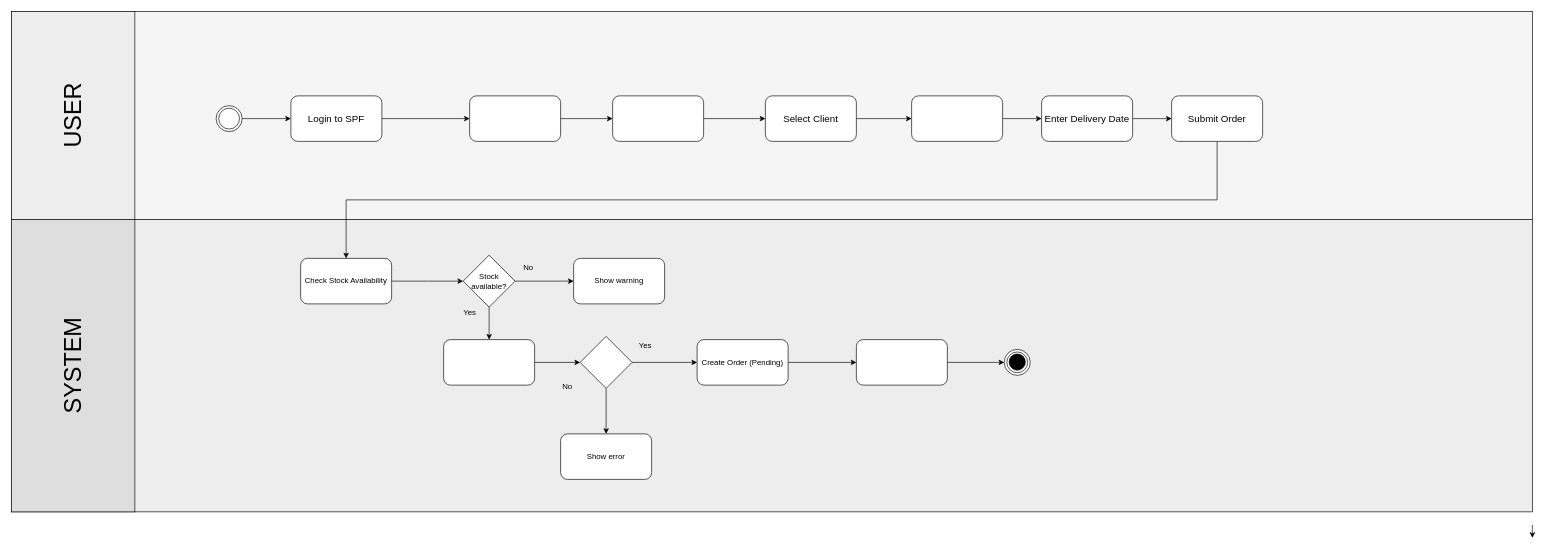
Some shapes in this 1549 by 554 pixel diagram are drawn without their labels. The shapes that lost their labels are listed below. From the top down, each one's centre as x and y in pixels, then its label:
point 515,118: Open Sales Orders
point 658,118: Create New Order
point 957,118: Enter Product & Quantity
point 489,362: Validate Delivery Date
point 605,362: Date valid?
point 901,362: Track Status (Pending→Delivered)
